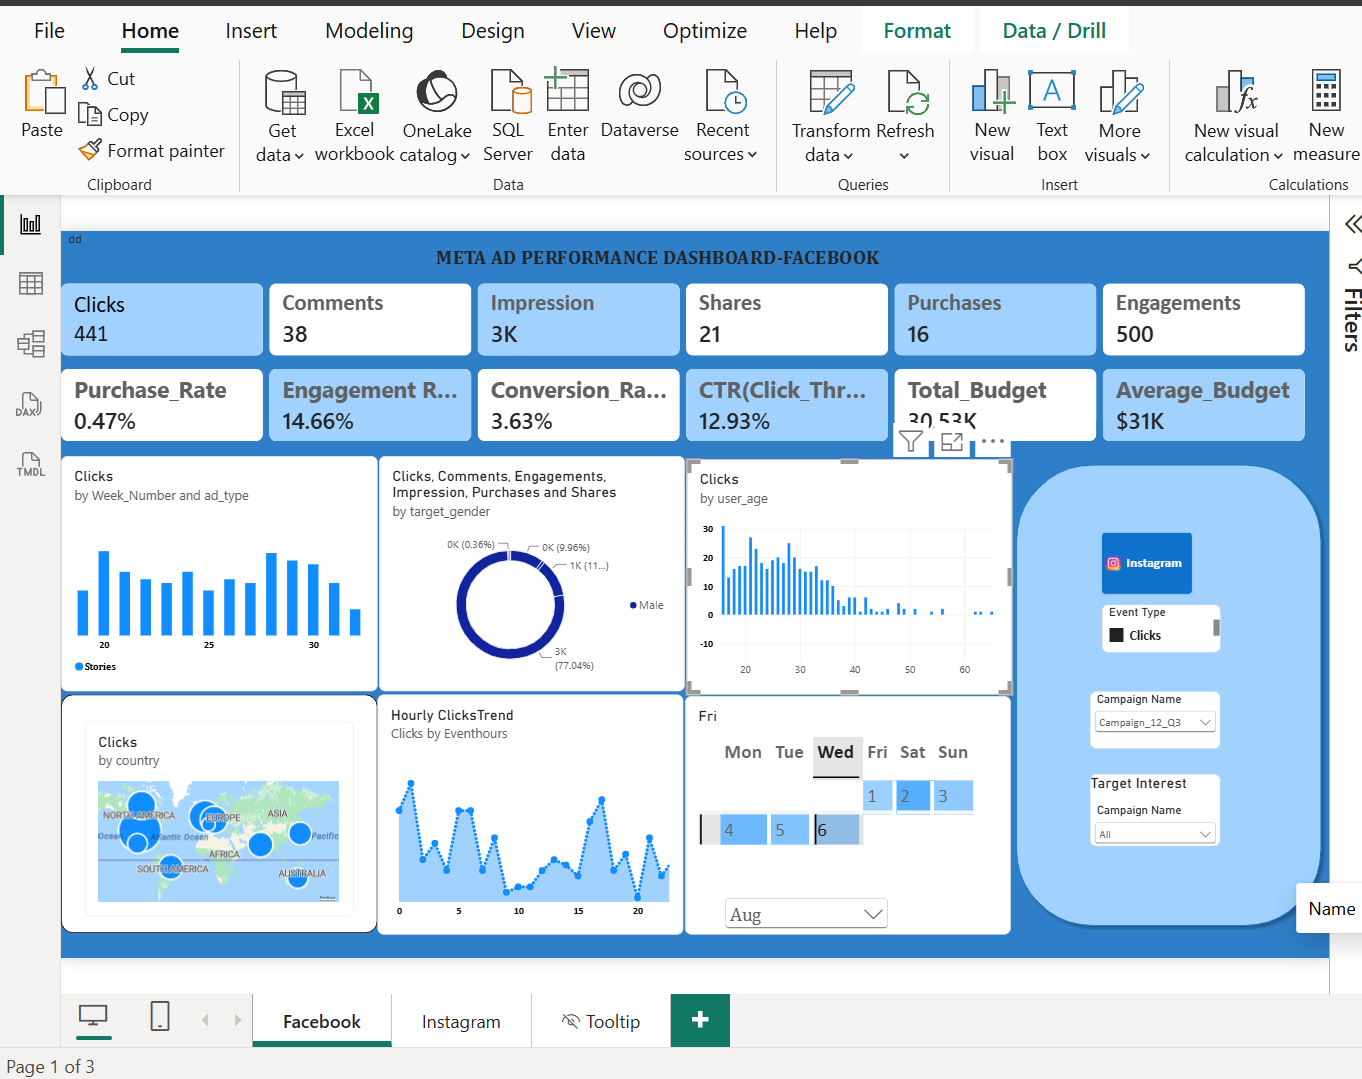

The dashboard page shown, as its layout file describes it:
{"tool":"powerbi","page":{"name":"Facebook","canvas":[1570,900],"ordinal":0},"visuals":[{"type":"shape","box":[1173.8,280.4,395.6,588.8],"z":0},{"type":"textbox","box":[10,0,280,280],"z":1000},{"type":"textbox","box":[10,290,280,280],"z":2000},{"type":"textbox","box":[464.3,18.6,646.3,46.4],"z":3000},{"type":"cardVisual","fields":{"Data":["Measure Table.Clicks","Measure Table.Comments","Measure Table.Impression","Measure Table.Shares","Measure Table.Purchases","Measure Table.Engagements"]},"box":[0,65,1545.2,89.1],"z":4000},{"type":"cardVisual","fields":{"Data":["Measure Table.Purchase_Rate","Measure Table.Engagement Rate","Measure Table.Conversion_Rate","Measure Table.CTR(Click_Through_Rate)","Measure Table.Total_Budget","Measure Table.Avgerage_Budget"]},"box":[0,170.9,1545.2,89.1],"z":5000},{"type":"slicer","fields":{"Values":["Parameter.Parameter"]},"box":[1288.9,462.5,146.7,59.4],"z":6000},{"type":"shape","box":[0,573.9,391.9,295.3],"z":7000},{"type":"donutChart","fields":{"Category":["ads.target_gender"],"Y":["Measure Table.Clicks","Measure Table.Comments","Measure Table.Engagements","Measure Table.Impression","Measure Table.Purchases","Measure Table.Shares"]},"box":[393.7,278.6,378.9,291.6],"z":8000},{"type":"clusteredColumnChart","fields":{"Category":["users.user_age"],"Y":["Measure Table.Clicks"]},"box":[774.5,282.3,403,291.6],"z":9000},{"type":"azureMap","fields":{"Category":["users.country"],"Size":["Measure Table.Clicks"]},"box":[29.7,607.3,332.5,241.4],"z":10000},{"type":"columnChart","fields":{"Category":["Calender_date.Week_Number"],"Series":["ads.ad_type"],"Y":["Measure Table.Clicks"]},"box":[0,278.6,391.9,291.6],"z":11000},{"type":"areaChart","fields":{"Category":["ad_events.Eventhours"],"Y":["Measure Table.Clicks"]},"box":[391.9,573.9,378.9,297.2],"z":12000},{"type":"pivotTable","fields":{"Columns":["Calender_date.Day_Name"],"Rows":["Calender_date.Week_Number"],"Values":["Min(Calender_date.Day_Number)"]},"box":[772.6,575.8,403,295.3],"z":13000},{"type":"slicer","fields":{"Values":["Calender_date.Month"]},"box":[817.2,820.9,211.7,48.3],"z":14000},{"type":"slicer","fields":{"Values":["campaigns.name"]},"box":[1274.1,570.2,161.6,70.6],"z":14001},{"type":"slicer","title":"Target Interest","fields":{"Values":["ads.target_interests"]},"box":[1274.1,672.3,161.6,89.1],"z":14002},{"type":"actionButton","box":[1288.9,373.3,111.4,76.1],"z":14003}]}

Visuals, with their boxes on the page's 1570x900 design canvas (x1, y1, x2, y2). These are canvas units, not pixel positions in the 1362x1079 screenshot, which may show the page scaled, cropped or inside an application window:
shape: [left=1174, top=280, right=1569, bottom=869]
textbox: [left=10, top=0, right=290, bottom=280]
textbox: [left=10, top=290, right=290, bottom=570]
textbox: [left=464, top=19, right=1111, bottom=65]
cardVisual - Measure Table.Clicks x Measure Table.Comments: [left=0, top=65, right=1545, bottom=154]
cardVisual - Measure Table.Purchase_Rate x Measure Table.Engagement Rate: [left=0, top=171, right=1545, bottom=260]
slicer - Parameter.Parameter: [left=1289, top=462, right=1436, bottom=522]
shape: [left=0, top=574, right=392, bottom=869]
donutChart - ads.target_gender x Measure Table.Clicks: [left=394, top=279, right=773, bottom=570]
clusteredColumnChart - users.user_age x Measure Table.Clicks: [left=774, top=282, right=1178, bottom=574]
azureMap - users.country x Measure Table.Clicks: [left=30, top=607, right=362, bottom=849]
columnChart - Calender_date.Week_Number x ads.ad_type: [left=0, top=279, right=392, bottom=570]
areaChart - ad_events.Eventhours x Measure Table.Clicks: [left=392, top=574, right=771, bottom=871]
pivotTable - Calender_date.Day_Name x Calender_date.Week_Number: [left=773, top=576, right=1176, bottom=871]
slicer - Calender_date.Month: [left=817, top=821, right=1029, bottom=869]
slicer - campaigns.name: [left=1274, top=570, right=1436, bottom=641]
"Target Interest" slicer: [left=1274, top=672, right=1436, bottom=761]
actionButton: [left=1289, top=373, right=1400, bottom=449]
